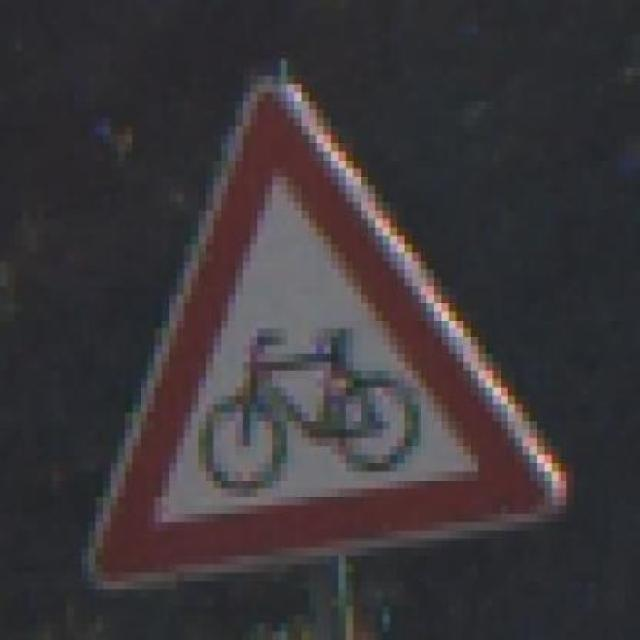CYCLE ROUTE AHEAD WARNING: (59, 67, 582, 590)
